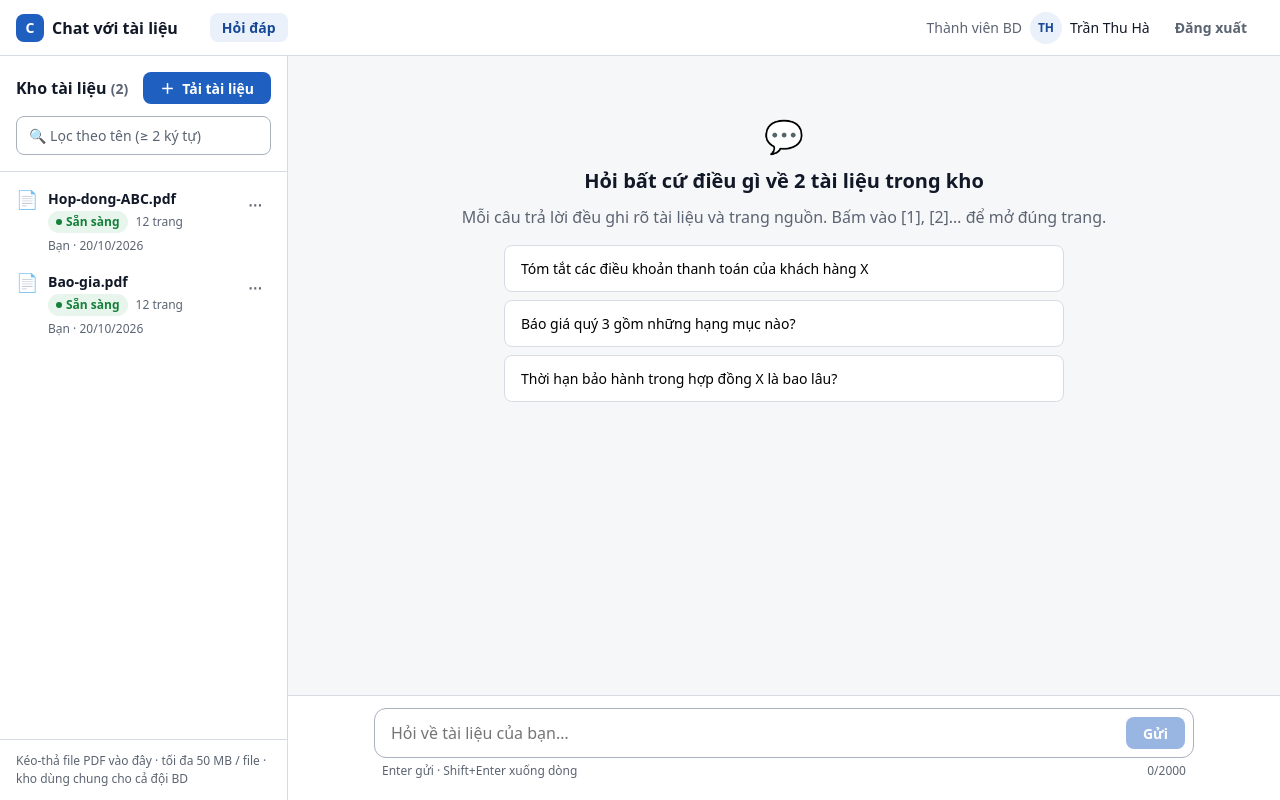
Test: US-307 / US-309 copy and feedback › 👍 sends HELPFUL once and thanks (AC-309.1)
Type "Thanh toán?" into the text box named "Câu hỏi về tài liệu" at (750, 733), box [383,717,1118,749]
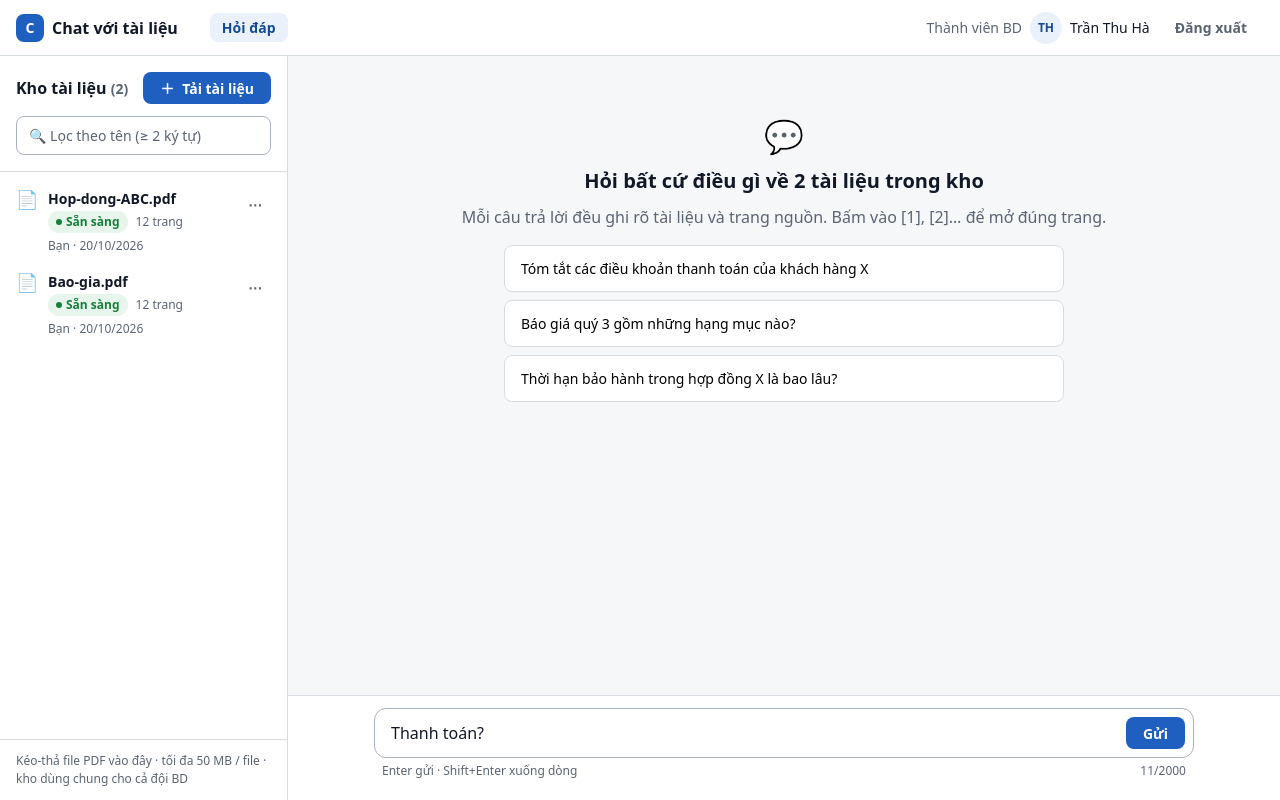
Press Enter in the text box named "Câu hỏi về tài liệu", box [383,717,1118,749]
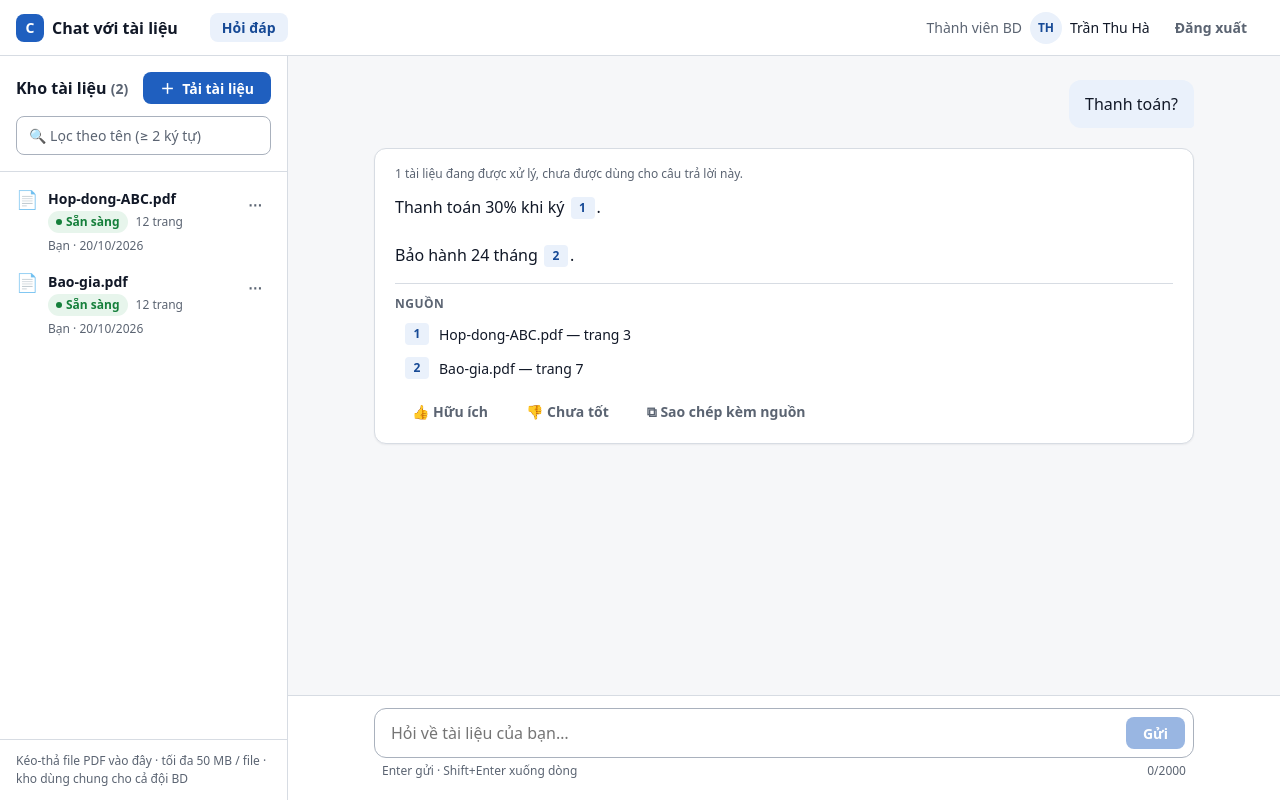
Click the button "👍 Hữu ích" at (450, 411), box [395,395,505,427]
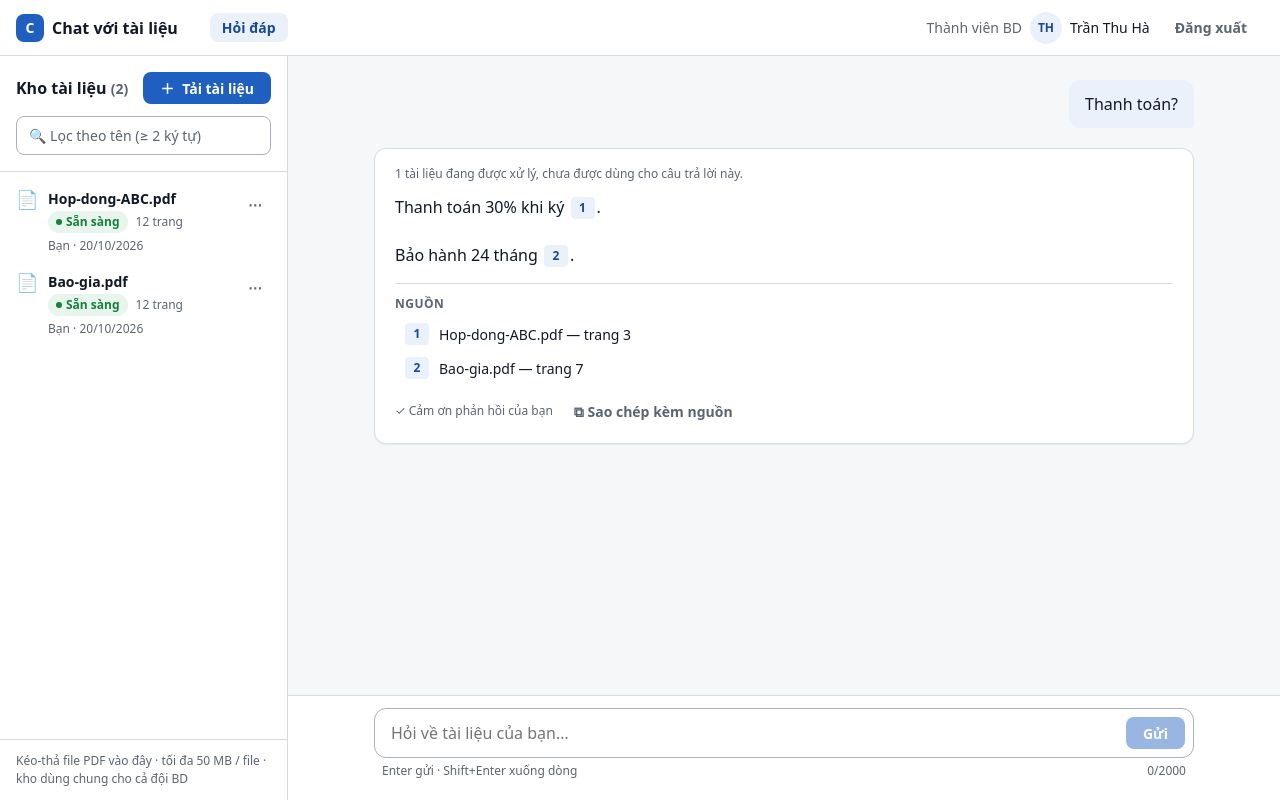
Check: the text "✓ Cảm ơn phản hồi của bạn" is shown, box [395,402,553,420]
